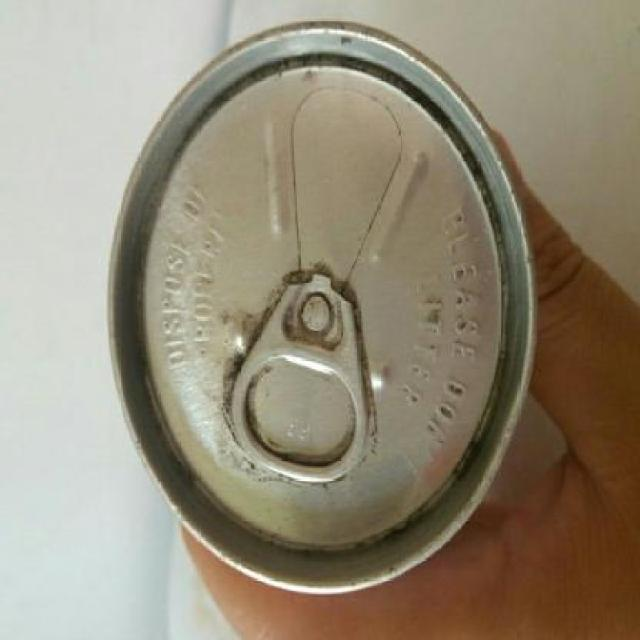Metal: (104, 20, 538, 597)
